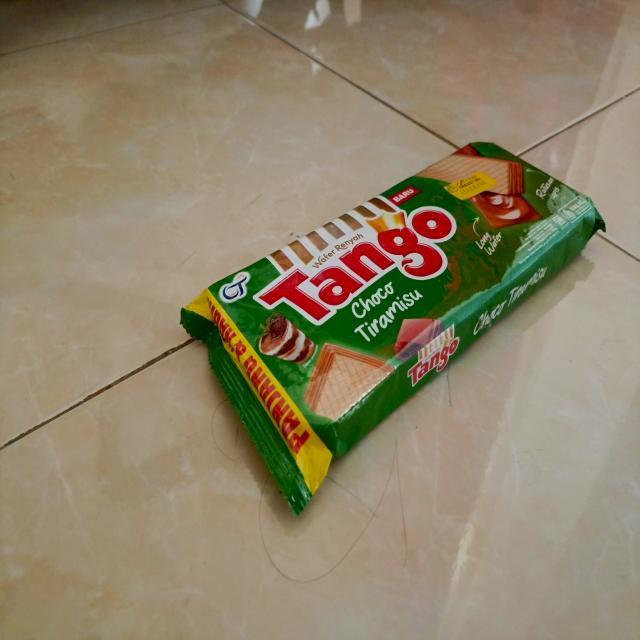tango-tiramisu: (178, 143, 608, 513)
